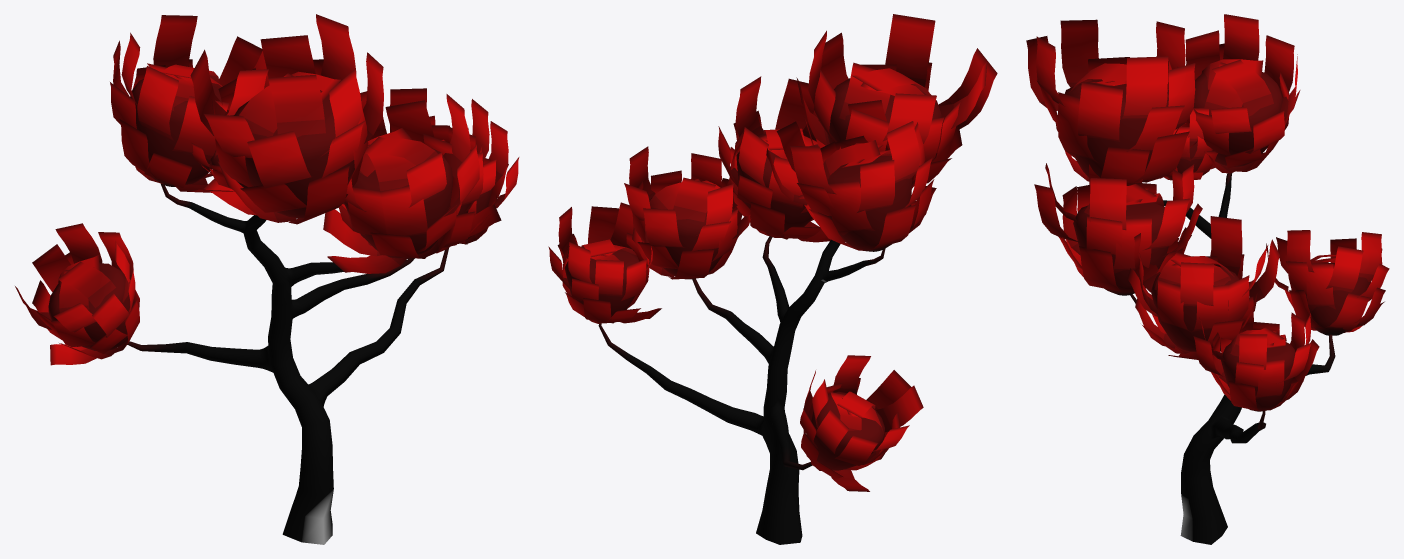
File: SM_Pohutakawa.fbx
3 views of the same model, side by side, from view 1: azimuth 30°, elevation 25°; view 2: azimuth 150°, elevation 25°; view 3: azimuth 270°, elevation 25° (orthographic). The views are drawn at different scales.
Parts seen in each view (by area): view 1: SM_Pohutakawa; view 2: SM_Pohutakawa; view 3: SM_Pohutakawa.
Part boxes in pixels (box(x1,y1,x2,y2)): SM_Pohutakawa: box(15, 14, 519, 544); SM_Pohutakawa: box(548, 14, 997, 544); SM_Pohutakawa: box(1026, 14, 1389, 544).
Bounding box in the file's own units: 93.98 × 112 × 77.56.
